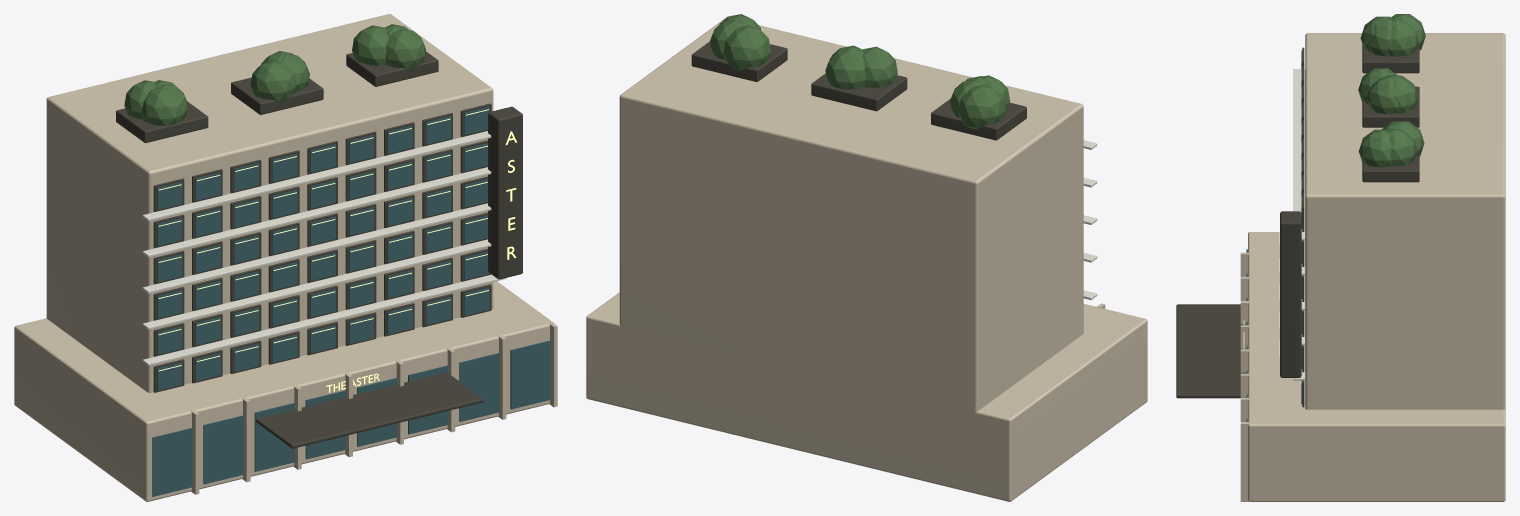
The model's file is aster-hotel.glb.
The picture shows the model from 3 angles, left to right: view 1: azimuth 30°, elevation 25°; view 2: azimuth 150°, elevation 25°; view 3: azimuth 270°, elevation 25°; orthographic projection. The views are drawn at different scales.
Parts seen in each view (by area): view 1: Hotel upper floors, Hotel limestone podium, Entrance canopy, Vertical blade, Horizontal cornice.001, Horizontal cornice.003, Horizontal cornice.002, Horizontal cornice.004, Horizontal cornice.005, Streetfront glass, Streetfront glass.001, Streetfront glass.007 (+67 smaller); view 2: Hotel upper floors, Hotel limestone podium, Roof planter.001, Roof planter, Icosphere.001, Roof planter.002, Icosphere.011, Icosphere.005, Icosphere.007, Icosphere.009; view 3: Hotel upper floors, Hotel limestone podium, Entrance canopy, Vertical blade, Horizontal cornice.005, Roof planter.002, Roof planter, Icosphere.008, Icosphere.006, Roof planter.001, Icosphere.002, Icosphere.009 (+7 smaller).
Boxes of the visible parts, bbox=[...] form: Hotel upper floors: bbox=[46, 14, 493, 392]; Hotel limestone podium: bbox=[14, 281, 554, 501]; Entrance canopy: bbox=[256, 372, 483, 448]; Vertical blade: bbox=[488, 106, 522, 279]; Horizontal cornice.001: bbox=[142, 274, 506, 365]; Horizontal cornice.003: bbox=[142, 203, 491, 293]; Horizontal cornice.002: bbox=[142, 239, 491, 329]; Horizontal cornice.004: bbox=[142, 167, 491, 257]; Horizontal cornice.005: bbox=[142, 131, 491, 221]; Streetfront glass: bbox=[152, 428, 192, 496]; Streetfront glass.001: bbox=[203, 415, 243, 484]; Streetfront glass.007: bbox=[510, 340, 550, 409]; Hotel upper floors: bbox=[619, 18, 1083, 414]; Hotel limestone podium: bbox=[586, 292, 1147, 501]; Roof planter.001: bbox=[811, 73, 907, 111]; Roof planter: bbox=[931, 98, 1026, 140]; Icosphere.001: bbox=[958, 84, 1005, 129]; Roof planter.002: bbox=[691, 42, 787, 81]; Icosphere.011: bbox=[723, 28, 770, 70]; Icosphere.005: bbox=[825, 50, 865, 89]; Icosphere.007: bbox=[862, 46, 897, 87]; Icosphere.009: bbox=[709, 20, 747, 59]; Hotel upper floors: bbox=[1305, 33, 1505, 409]; Hotel limestone podium: bbox=[1248, 232, 1505, 501]; Entrance canopy: bbox=[1176, 304, 1246, 398]; Vertical blade: bbox=[1280, 211, 1301, 377]; Horizontal cornice.005: bbox=[1293, 69, 1305, 240]; Roof planter.002: bbox=[1362, 154, 1419, 182]; Roof planter: bbox=[1362, 45, 1419, 73]; Icosphere.008: bbox=[1358, 129, 1391, 167]; Icosphere.006: bbox=[1366, 76, 1398, 113]; Roof planter.001: bbox=[1362, 86, 1419, 127]; Icosphere.002: bbox=[1388, 19, 1417, 56]; Icosphere.009: bbox=[1387, 129, 1417, 166].
Size of the model in its own units: 32 by 25.6 by 23.
